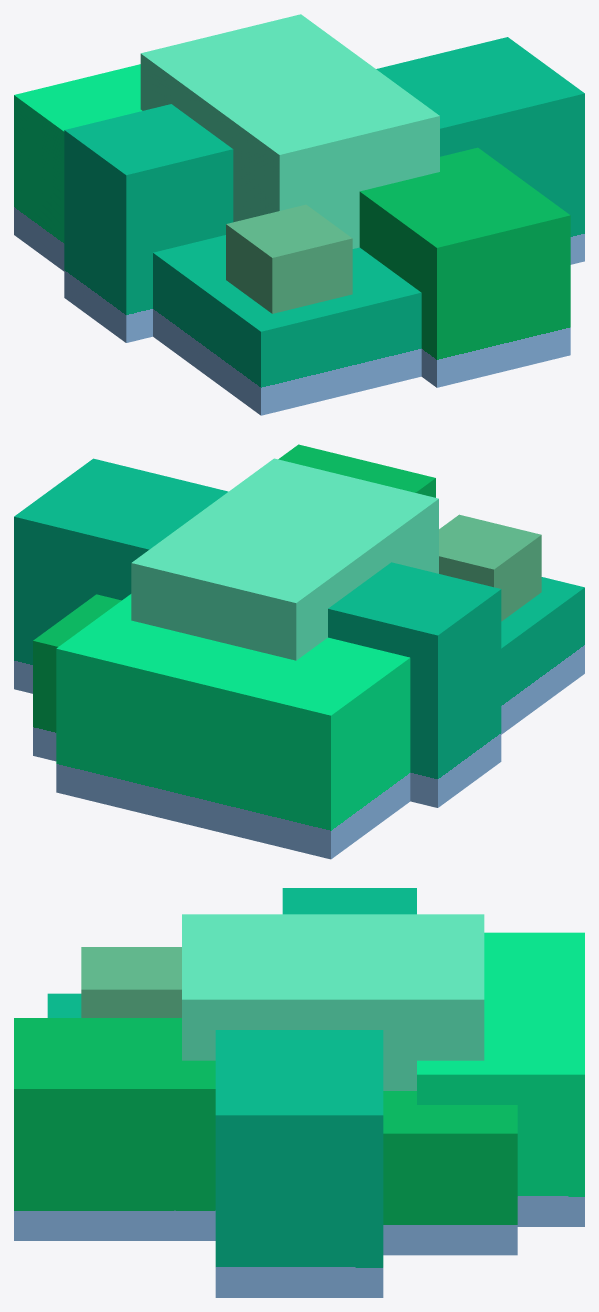
Rendered from GRock1.dae.
3 views of the same model, one above another, from view 1: azimuth 30°, elevation 25°; view 2: azimuth 150°, elevation 25°; view 3: azimuth 270°, elevation 25° (orthographic). The views are drawn at different scales.
Parts seen in each view (by area): view 1: GRock1; view 2: GRock1; view 3: GRock1.
Boxes of the visible parts, x1,y1,x2,y2 form: GRock1: (14,14,584,415); GRock1: (14,444,584,859); GRock1: (14,888,584,1297).
Size of the model in its own units: 1.6 by 0.7 by 1.7.
1 material, 1 textured.
